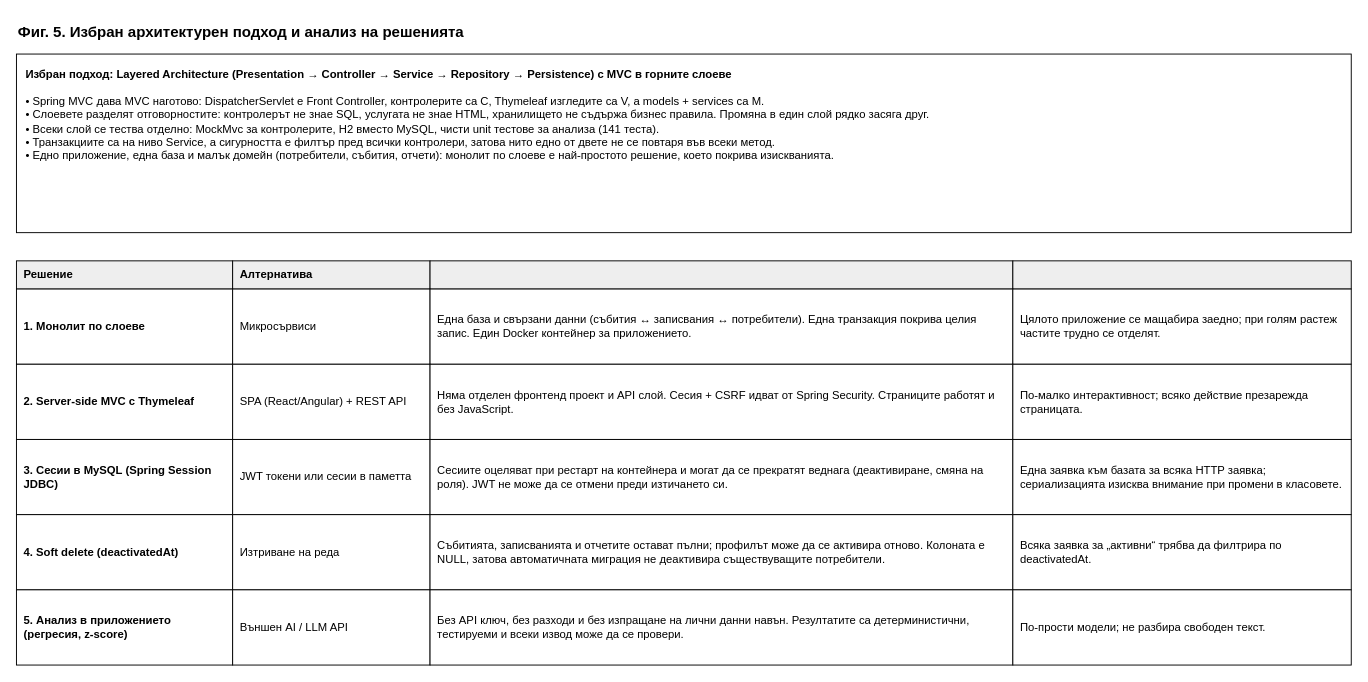
Image size: 1368x682. Some labels were removed from this diagram. The centre of each missing label's shape, as x and y in pixels:
"Защо избраното е подходящо за Demetra" belongs at (x=721, y=274).
"Цена на решението" belongs at (x=1181, y=274).
